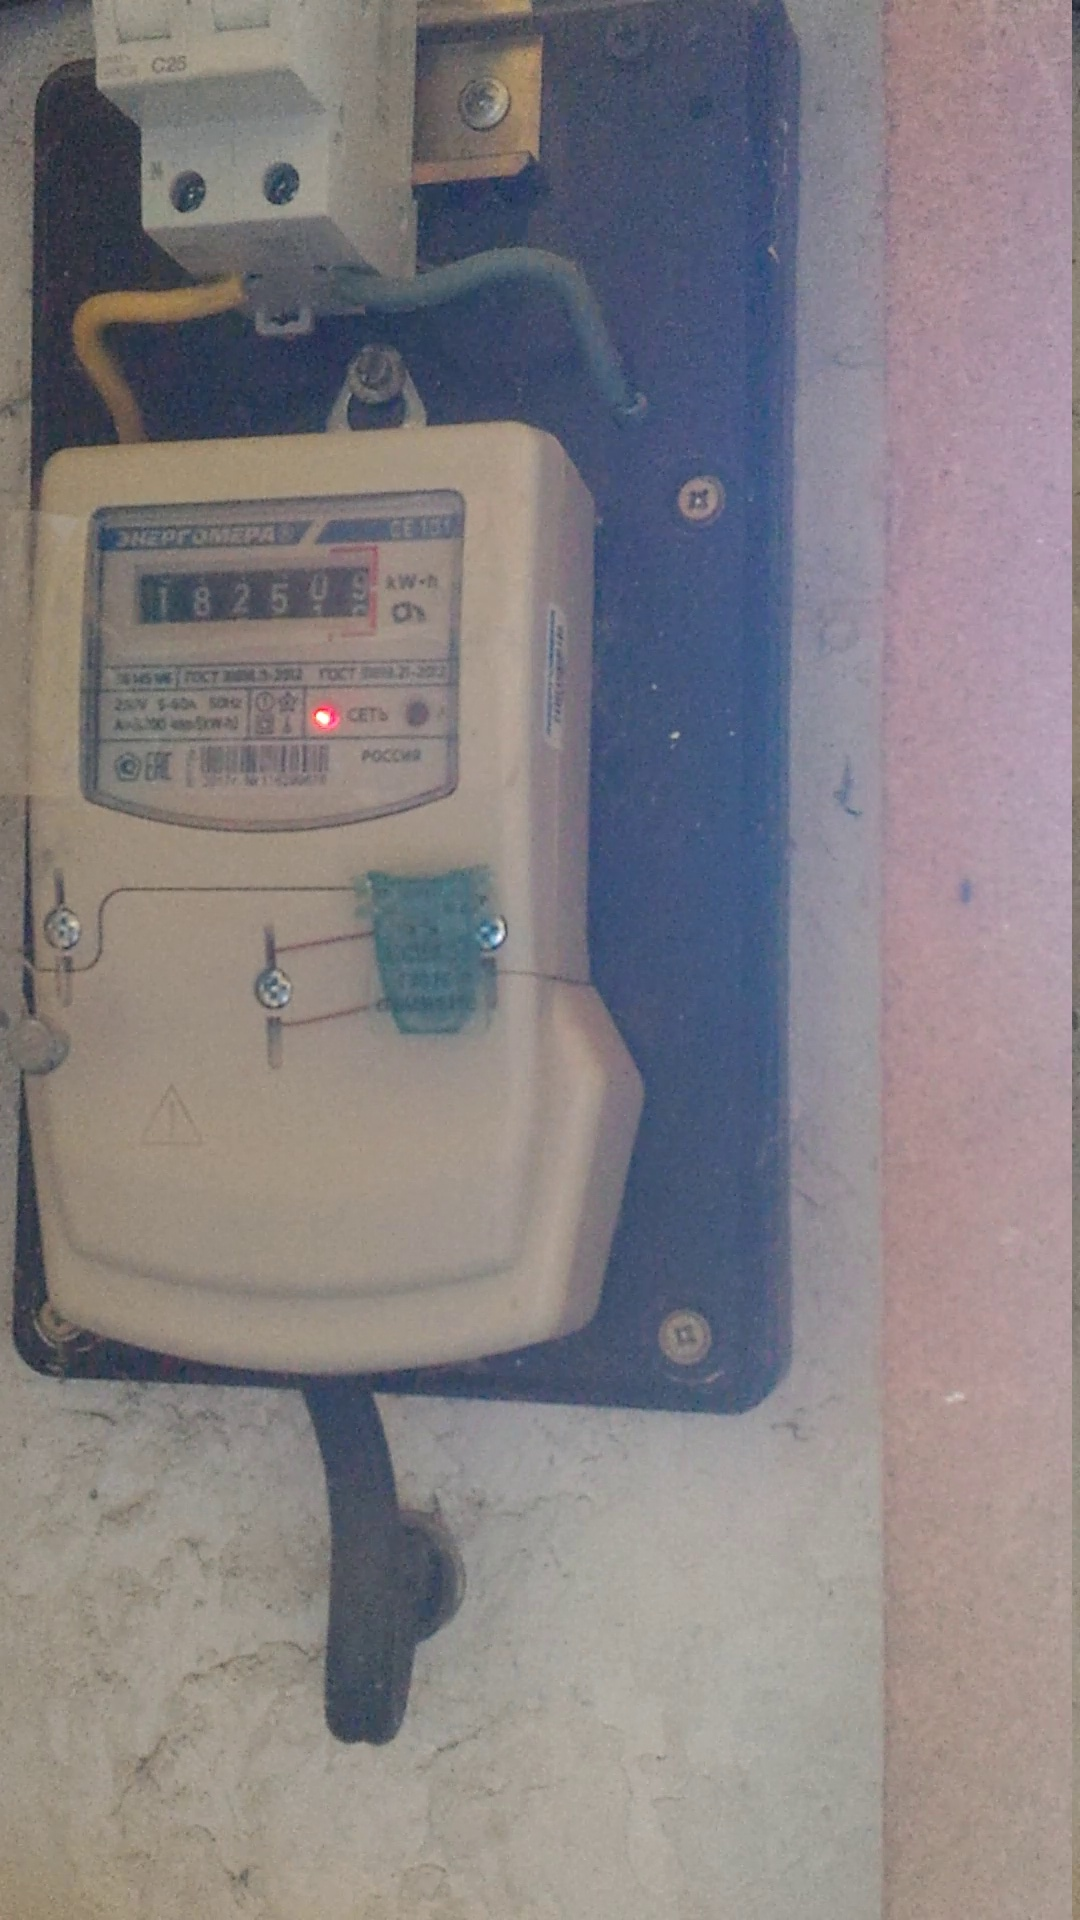0: (307, 571, 331, 603)
1: (156, 584, 173, 616), (311, 603, 324, 617)
2: (229, 582, 253, 615)
5: (268, 582, 291, 616)
8: (190, 584, 214, 618)
9: (349, 568, 371, 603)
screen: (128, 558, 382, 632)
